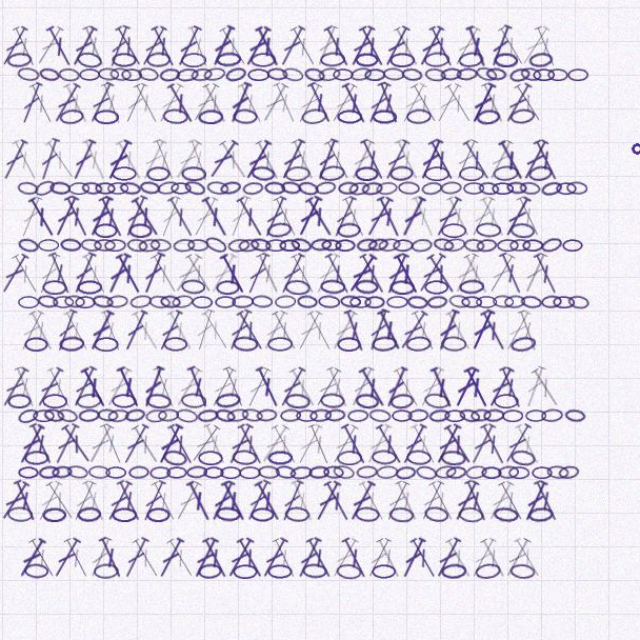chain: (102, 73, 128, 91), (514, 343, 540, 361), (432, 397, 458, 415), (514, 451, 540, 469), (223, 248, 247, 267), (184, 451, 209, 469), (61, 194, 84, 213), (465, 73, 490, 90), (316, 127, 341, 144), (514, 127, 539, 144), (333, 181, 358, 198), (531, 181, 556, 198), (283, 235, 308, 252), (234, 397, 259, 414), (432, 505, 457, 522), (481, 559, 506, 576), (36, 74, 61, 90), (300, 182, 325, 198), (514, 236, 539, 252), (300, 290, 325, 306), (102, 398, 127, 414), (168, 398, 193, 414), (300, 398, 325, 414), (448, 452, 473, 468), (399, 506, 424, 522), (465, 506, 490, 522), (498, 506, 523, 522), (531, 506, 556, 522), (349, 560, 374, 576), (514, 560, 539, 576), (46, 411, 68, 429), (532, 74, 556, 90), (86, 128, 110, 144), (482, 128, 506, 144), (268, 182, 292, 198), (367, 398, 391, 414), (400, 398, 424, 414), (184, 128, 209, 143), (498, 182, 523, 197), (415, 344, 440, 359), (250, 452, 275, 467), (234, 506, 259, 521), (300, 506, 325, 521), (243, 87, 265, 104), (481, 87, 503, 104), (204, 195, 226, 212), (305, 249, 327, 266), (543, 249, 565, 266), (196, 412, 219, 428), (235, 74, 259, 89), (334, 74, 358, 89), (433, 74, 457, 89), (251, 128, 275, 143), (416, 128, 440, 143), (482, 236, 506, 251), (334, 290, 358, 305), (466, 290, 490, 305), (86, 344, 110, 359), (251, 344, 275, 359), (383, 344, 407, 359), (449, 344, 473, 359), (202, 398, 226, 413), (334, 398, 358, 413), (383, 452, 407, 467), (416, 452, 440, 467), (37, 506, 61, 521), (367, 506, 391, 521), (119, 560, 143, 575), (317, 560, 341, 575), (449, 560, 473, 575), (66, 88, 88, 104), (297, 88, 319, 104), (318, 88, 340, 104), (513, 88, 535, 104), (312, 196, 334, 212), (543, 196, 565, 212), (46, 250, 68, 266), (83, 412, 105, 428), (233, 412, 255, 428), (465, 412, 487, 428), (424, 466, 446, 482), (169, 74, 192, 89), (400, 182, 423, 197), (350, 236, 373, 251), (202, 290, 225, 305), (367, 290, 390, 305), (103, 506, 126, 521), (53, 560, 76, 575), (218, 560, 241, 575), (136, 75, 160, 89), (202, 75, 226, 89), (268, 75, 292, 89), (400, 75, 424, 89), (119, 129, 143, 143), (218, 129, 242, 143), (350, 129, 374, 143), (383, 129, 407, 143), (136, 183, 160, 197), (202, 183, 226, 197), (433, 183, 457, 197), (466, 183, 490, 197), (449, 237, 473, 251), (70, 291, 94, 305), (103, 291, 127, 305), (400, 291, 424, 305), (119, 345, 143, 359), (284, 345, 308, 359), (70, 399, 94, 413), (136, 399, 160, 413), (499, 399, 523, 413), (53, 453, 77, 467), (218, 453, 242, 467), (284, 453, 308, 467), (350, 453, 374, 467), (136, 507, 160, 521), (251, 561, 275, 575), (284, 561, 308, 575), (46, 88, 68, 103), (160, 88, 182, 103), (223, 88, 245, 103), (332, 88, 354, 103), (362, 88, 384, 103), (179, 196, 201, 211), (226, 196, 248, 211), (238, 196, 260, 211), (389, 250, 411, 265), (451, 250, 473, 265), (153, 304, 175, 319), (245, 412, 267, 427), (367, 75, 390, 89), (499, 75, 522, 89), (169, 183, 192, 197), (367, 183, 390, 197), (119, 237, 142, 251), (152, 237, 175, 251), (235, 291, 258, 305), (433, 291, 456, 305), (53, 345, 76, 359), (185, 345, 208, 359), (350, 345, 373, 359), (37, 399, 60, 413), (70, 507, 93, 521), (169, 507, 192, 521), (268, 507, 291, 521), (383, 561, 406, 575), (524, 88, 545, 103), (162, 196, 183, 211), (296, 196, 317, 211), (329, 196, 350, 211), (267, 250, 288, 265), (368, 250, 389, 265), (379, 250, 400, 265), (441, 250, 462, 265), (65, 304, 86, 319), (117, 304, 138, 319), (193, 304, 214, 319), (456, 304, 477, 319), (71, 412, 92, 427), (148, 412, 169, 427), (259, 412, 280, 427), (93, 466, 114, 481), (291, 466, 312, 481), (346, 466, 367, 481), (443, 466, 464, 481), (472, 466, 493, 481), (560, 466, 581, 481), (197, 89, 219, 103), (161, 251, 183, 265), (194, 251, 216, 265), (246, 251, 268, 265), (380, 413, 402, 427), (305, 467, 327, 481), (85, 89, 106, 103), (181, 89, 202, 103), (211, 89, 232, 103), (411, 89, 432, 103), (433, 89, 454, 103), (46, 197, 67, 211), (107, 197, 128, 211), (143, 197, 164, 211), (260, 197, 281, 211), (361, 197, 382, 211), (373, 197, 394, 211), (387, 197, 408, 211), (430, 197, 451, 211), (484, 197, 505, 211), (523, 197, 544, 211), (106, 251, 127, 265), (150, 251, 171, 265), (172, 251, 193, 265), (256, 251, 277, 265), (420, 251, 441, 265), (470, 251, 491, 265), (482, 251, 503, 265), (171, 305, 192, 319), (416, 305, 437, 319), (435, 305, 456, 319), (524, 305, 545, 319), (569, 305, 590, 319), (132, 413, 153, 427), (168, 413, 189, 427), (217, 413, 238, 427), (437, 413, 458, 427), (566, 413, 587, 427), (405, 467, 426, 481), (453, 467, 474, 481), (387, 467, 409, 480), (549, 467, 571, 480), (134, 89, 155, 102), (283, 89, 304, 102), (448, 89, 469, 102), (463, 89, 484, 102), (491, 89, 512, 102), (408, 197, 429, 210), (448, 197, 469, 210), (131, 305, 152, 318), (250, 305, 271, 318), (332, 305, 353, 318), (104, 413, 125, 426), (122, 413, 143, 426), (273, 413, 294, 426), (324, 413, 345, 426), (338, 413, 359, 426), (417, 413, 438, 426), (544, 413, 565, 426), (66, 467, 87, 480), (114, 467, 135, 480), (275, 467, 296, 480), (368, 467, 389, 480), (123, 89, 143, 102), (394, 89, 414, 102), (77, 197, 97, 210), (281, 197, 301, 210), (351, 197, 371, 210), (511, 197, 531, 210), (568, 197, 588, 210), (87, 251, 107, 264), (325, 251, 345, 264), (91, 305, 111, 318), (182, 305, 202, 318), (269, 305, 289, 318), (291, 305, 311, 318), (312, 305, 332, 318), (353, 305, 373, 318), (498, 305, 518, 318), (509, 305, 529, 318), (544, 305, 564, 318), (180, 413, 200, 426), (296, 413, 316, 426), (477, 413, 497, 426), (489, 413, 509, 426), (79, 467, 99, 480), (152, 467, 172, 480), (207, 467, 227, 480), (323, 467, 343, 480), (337, 467, 357, 480), (503, 467, 523, 480), (265, 90, 286, 102), (536, 90, 557, 102), (497, 198, 518, 210), (119, 252, 140, 264), (129, 252, 150, 264), (502, 252, 523, 264), (362, 306, 383, 318), (397, 306, 418, 318), (555, 306, 576, 318), (61, 414, 82, 426), (311, 414, 332, 426), (257, 468, 278, 480), (105, 90, 125, 102), (145, 90, 165, 102), (346, 90, 366, 102), (376, 90, 396, 102), (550, 90, 570, 102), (569, 90, 589, 102), (95, 198, 115, 210), (120, 198, 140, 210), (132, 198, 152, 210), (192, 198, 212, 210), (470, 198, 490, 210), (558, 198, 578, 210), (66, 252, 86, 264), (208, 252, 228, 264), (282, 252, 302, 264), (295, 252, 315, 264), (335, 252, 355, 264), (348, 252, 368, 264), (403, 252, 423, 264), (514, 252, 534, 264), (526, 252, 546, 264), (564, 252, 584, 264), (47, 306, 67, 318), (80, 306, 100, 318), (101, 306, 121, 318), (212, 306, 232, 318), (234, 306, 254, 318), (376, 306, 396, 318), (468, 306, 488, 318), (482, 306, 502, 318), (360, 414, 380, 426), (402, 414, 422, 426), (452, 414, 472, 426), (507, 414, 527, 426), (529, 414, 549, 426), (47, 468, 67, 480), (130, 468, 150, 480), (172, 468, 192, 480), (188, 468, 208, 480), (223, 468, 243, 480), (239, 468, 259, 480), (487, 468, 507, 480), (513, 468, 533, 480), (535, 468, 555, 480)
double: (207, 426, 242, 467), (357, 264, 391, 306), (274, 426, 308, 468), (27, 480, 61, 522), (70, 156, 104, 197), (225, 156, 259, 197), (235, 156, 269, 197), (86, 426, 120, 467), (70, 480, 104, 521), (235, 48, 268, 90), (449, 102, 482, 144), (192, 156, 225, 198), (152, 210, 185, 252), (317, 210, 350, 252), (27, 264, 60, 306), (192, 264, 225, 306), (433, 264, 466, 306), (152, 318, 185, 360), (406, 318, 439, 360), (532, 372, 565, 414), (152, 426, 185, 468), (449, 426, 482, 468), (152, 534, 185, 576), (185, 534, 218, 576), (522, 48, 555, 89), (302, 48, 334, 90), (457, 48, 489, 90), (77, 102, 109, 144), (186, 102, 218, 144), (275, 102, 307, 144), (417, 102, 449, 144), (506, 102, 538, 144), (137, 156, 169, 198), (259, 156, 291, 198), (467, 156, 499, 198), (54, 210, 86, 252), (186, 210, 218, 252), (252, 210, 284, 252), (374, 210, 406, 252), (38, 264, 70, 306), (170, 264, 202, 306), (226, 264, 258, 306), (490, 264, 522, 306), (252, 318, 284, 360), (341, 318, 373, 360), (450, 318, 482, 360), (28, 372, 60, 414), (61, 372, 93, 414), (193, 372, 225, 414), (302, 372, 334, 414), (325, 372, 357, 414), (368, 372, 400, 414), (341, 426, 373, 468), (384, 426, 416, 468), (44, 534, 76, 576), (54, 534, 86, 576), (77, 534, 109, 576), (242, 534, 274, 576), (341, 534, 373, 576), (450, 534, 482, 576), (483, 534, 515, 576), (61, 48, 93, 89), (500, 48, 532, 89), (209, 102, 241, 143), (516, 102, 548, 143), (203, 264, 235, 305), (424, 264, 456, 305), (219, 318, 251, 359), (28, 48, 59, 90), (71, 48, 102, 90), (94, 48, 125, 90), (259, 48, 290, 90), (292, 48, 323, 90), (335, 48, 366, 90), (368, 48, 399, 90), (391, 48, 422, 90), (401, 48, 432, 90), (424, 48, 455, 90), (87, 102, 118, 144), (176, 102, 207, 144), (219, 102, 250, 144), (308, 102, 339, 144), (341, 102, 372, 144), (407, 102, 438, 144), (38, 156, 69, 198), (269, 156, 300, 198), (335, 156, 366, 198), (391, 156, 422, 198), (434, 156, 465, 198), (490, 156, 521, 198), (523, 156, 554, 198), (219, 210, 250, 252), (440, 210, 471, 252), (483, 210, 514, 252), (506, 210, 537, 252), (137, 264, 168, 306), (236, 264, 267, 306), (401, 264, 432, 306), (467, 264, 498, 306), (54, 318, 85, 360), (186, 318, 217, 360), (285, 318, 316, 360), (308, 318, 339, 360), (506, 318, 537, 360), (104, 372, 135, 414), (127, 372, 158, 414), (226, 372, 257, 414), (292, 372, 323, 414), (401, 372, 432, 414), (424, 372, 455, 414), (490, 372, 521, 414), (44, 426, 75, 468), (110, 426, 141, 468), (143, 426, 174, 468), (176, 426, 207, 468), (285, 426, 316, 468), (308, 426, 339, 468), (351, 426, 382, 468), (374, 426, 405, 468), (417, 426, 448, 468), (440, 426, 471, 468), (473, 426, 504, 468), (483, 426, 514, 468), (516, 426, 547, 468), (61, 480, 92, 522), (170, 480, 201, 522), (193, 480, 224, 522), (269, 480, 300, 522), (335, 480, 366, 522), (358, 480, 389, 522), (368, 480, 399, 522), (434, 480, 465, 522), (490, 480, 521, 522), (500, 480, 531, 522), (87, 534, 118, 576), (219, 534, 250, 576), (252, 534, 283, 576), (275, 534, 306, 576), (318, 534, 349, 576), (384, 534, 415, 576), (417, 534, 448, 576), (440, 534, 471, 576), (506, 534, 537, 576), (111, 101, 141, 144), (319, 101, 349, 144), (105, 155, 135, 198), (293, 155, 323, 198), (303, 155, 333, 198), (369, 155, 399, 198), (402, 155, 432, 198), (78, 209, 108, 252), (88, 209, 118, 252), (309, 209, 339, 252), (451, 209, 481, 252), (517, 209, 547, 252), (270, 263, 300, 306), (458, 263, 488, 306), (385, 317, 415, 360), (95, 371, 125, 414), (359, 371, 389, 414), (138, 479, 168, 522), (260, 479, 290, 522), (425, 479, 455, 522), (534, 479, 564, 522), (137, 48, 168, 89), (506, 426, 537, 467), (516, 534, 547, 575), (161, 48, 191, 90), (194, 48, 224, 90), (359, 48, 389, 90), (154, 102, 184, 144), (253, 102, 283, 144), (352, 102, 382, 144), (441, 102, 471, 144), (474, 102, 504, 144), (29, 156, 59, 198), (128, 156, 158, 198), (161, 156, 191, 198), (359, 156, 389, 198), (501, 156, 531, 198), (534, 156, 564, 198), (121, 210, 151, 252), (210, 210, 240, 252), (286, 210, 316, 252), (105, 264, 135, 306), (303, 264, 333, 306), (326, 264, 356, 306), (336, 264, 366, 306), (369, 264, 399, 306), (45, 318, 75, 360), (88, 318, 118, 360), (111, 318, 141, 360), (276, 318, 306, 360), (319, 318, 349, 360), (484, 318, 514, 360), (260, 372, 290, 414), (458, 372, 488, 414), (468, 372, 498, 414), (78, 426, 108, 468), (187, 426, 217, 468), (243, 426, 273, 468), (253, 426, 283, 468), (408, 426, 438, 468), (128, 480, 158, 522), (204, 480, 234, 522), (237, 480, 267, 522), (326, 480, 356, 522), (392, 480, 422, 522), (458, 480, 488, 522), (144, 534, 174, 576), (177, 534, 207, 576), (210, 534, 240, 576), (352, 534, 382, 576), (375, 534, 405, 576), (474, 534, 504, 576), (105, 47, 134, 90), (227, 47, 256, 90), (286, 101, 315, 144), (484, 101, 513, 144), (425, 155, 454, 198), (458, 155, 487, 198), (111, 209, 140, 252), (418, 209, 447, 252), (501, 263, 530, 306), (524, 263, 553, 306), (243, 317, 272, 360), (474, 317, 503, 360), (138, 371, 167, 414), (270, 371, 299, 414), (55, 425, 84, 468), (220, 425, 249, 468), (105, 479, 134, 522), (303, 479, 332, 522), (402, 479, 431, 522), (468, 479, 497, 522), (111, 533, 140, 576), (121, 533, 150, 576), (39, 48, 68, 90), (171, 48, 200, 90), (270, 48, 299, 90), (435, 48, 464, 90), (55, 102, 84, 144), (95, 156, 124, 198), (352, 210, 381, 252), (385, 210, 414, 252), (408, 210, 437, 252), (474, 210, 503, 252), (293, 264, 322, 306), (534, 264, 563, 306), (144, 318, 173, 360), (177, 318, 206, 360), (418, 318, 447, 360), (72, 372, 101, 414), (227, 480, 256, 522), (524, 480, 553, 522), (286, 534, 315, 576), (309, 534, 338, 576), (408, 534, 437, 576), (244, 101, 272, 144), (172, 155, 200, 198), (145, 209, 173, 252), (73, 263, 101, 306), (96, 263, 124, 306), (162, 263, 190, 306), (40, 371, 68, 414), (172, 371, 200, 414), (238, 371, 266, 414), (337, 371, 365, 414), (122, 425, 150, 468), (40, 479, 68, 522), (145, 102, 173, 144), (376, 102, 404, 144), (277, 210, 305, 252), (343, 210, 371, 252), (129, 264, 157, 306), (261, 264, 289, 306), (393, 264, 421, 306), (436, 372, 464, 414), (96, 480, 124, 522), (162, 480, 190, 522), (327, 47, 354, 90), (492, 47, 519, 90), (386, 101, 413, 144), (327, 155, 354, 198), (244, 209, 271, 252), (376, 317, 403, 360), (442, 317, 469, 360), (162, 371, 189, 414), (205, 371, 232, 414), (525, 371, 552, 414), (535, 48, 562, 90), (46, 210, 73, 252), (63, 264, 90, 306), (393, 372, 420, 414), (502, 372, 529, 414), (320, 426, 347, 468), (294, 480, 321, 522), (64, 155, 90, 198), (130, 48, 156, 90), (206, 48, 232, 90), (470, 48, 496, 90), (47, 102, 73, 144), (123, 102, 149, 144), (206, 156, 232, 198), (179, 210, 205, 252), (80, 318, 106, 360), (123, 318, 149, 360), (354, 318, 380, 360), (212, 317, 237, 360), (519, 318, 544, 360)
noise: (16, 368, 29, 381), (629, 160, 640, 172)
